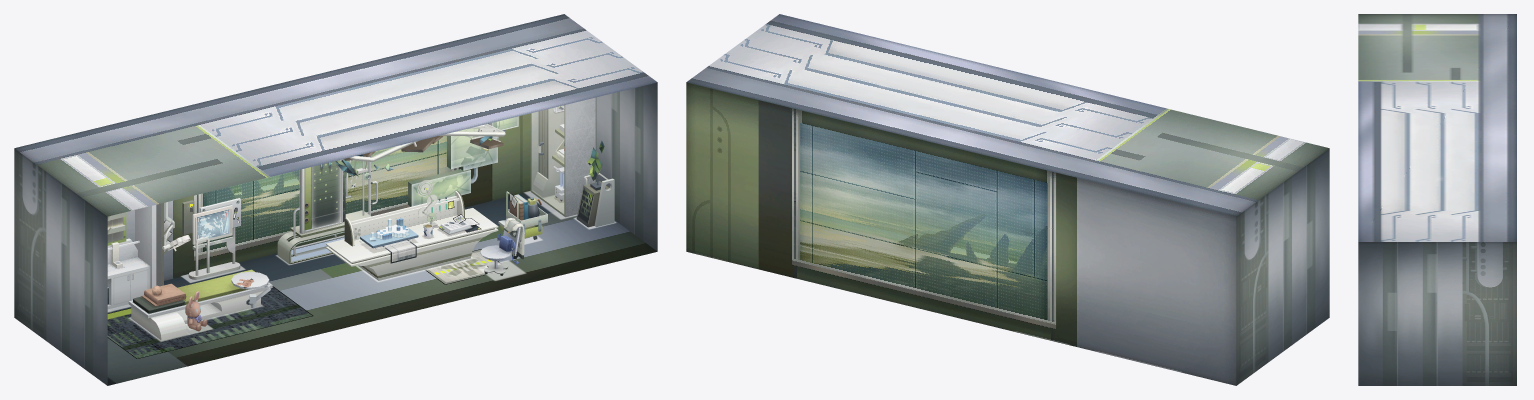
Rendered from kaltsroom.glb.
The picture shows the model from 3 angles, left to right: view 1: azimuth 30°, elevation 25°; view 2: azimuth 150°, elevation 25°; view 3: azimuth 270°, elevation 25°; orthographic projection. The views are drawn at different scales.
Parts seen in each view (by area): view 1: ROOM_room, ROOM_floor, furni_kaltsroom_sofa_01, furni_kaltsroom_table_02, furni_kaltsroom_carpet_01, furni_kaltsroom_cabinet_01, furni_kaltsroom_shelf_02, furni_kaltsroom_cabinet_02.001, furni_kaltsroom_table_01, furni_kaltsroom_light_01, furni_kaltsroom_cabinet_03.001, furni_kaltsroom_display_02 (+15 smaller); view 2: ROOM_room, ROOM_LDoor; view 3: ROOM_room, ROOM_RDoor.
Part boxes in pixels (x1=…): ROOM_room: x1=14, y1=14, x2=657, y2=385; ROOM_floor: x1=107, y1=192, x2=657, y2=385; furni_kaltsroom_sofa_01: x1=128, y1=269, x2=272, y2=340; furni_kaltsroom_table_02: x1=326, y1=190, x2=498, y2=263; furni_kaltsroom_carpet_01: x1=107, y1=286, x2=313, y2=358; furni_kaltsroom_cabinet_01: x1=107, y1=203, x2=163, y2=309; furni_kaltsroom_shelf_02: x1=290, y1=159, x2=377, y2=256; furni_kaltsroom_cabinet_02.001: x1=530, y1=97, x2=595, y2=217; furni_kaltsroom_table_01: x1=326, y1=187, x2=498, y2=280; furni_kaltsroom_light_01: x1=408, y1=116, x2=518, y2=206; furni_kaltsroom_cabinet_03.001: x1=533, y1=105, x2=564, y2=197; furni_kaltsroom_display_02: x1=192, y1=205, x2=235, y2=275; ROOM_room: x1=686, y1=14, x2=1329, y2=385; ROOM_LDoor: x1=1297, y1=251, x2=1315, y2=341; ROOM_room: x1=1358, y1=14, x2=1516, y2=385; ROOM_RDoor: x1=1381, y1=320, x2=1414, y2=385.
Size of the model in its own units: 7.48 by 2.2 by 2.24.
Materials: 7 (7 with a texture image).
